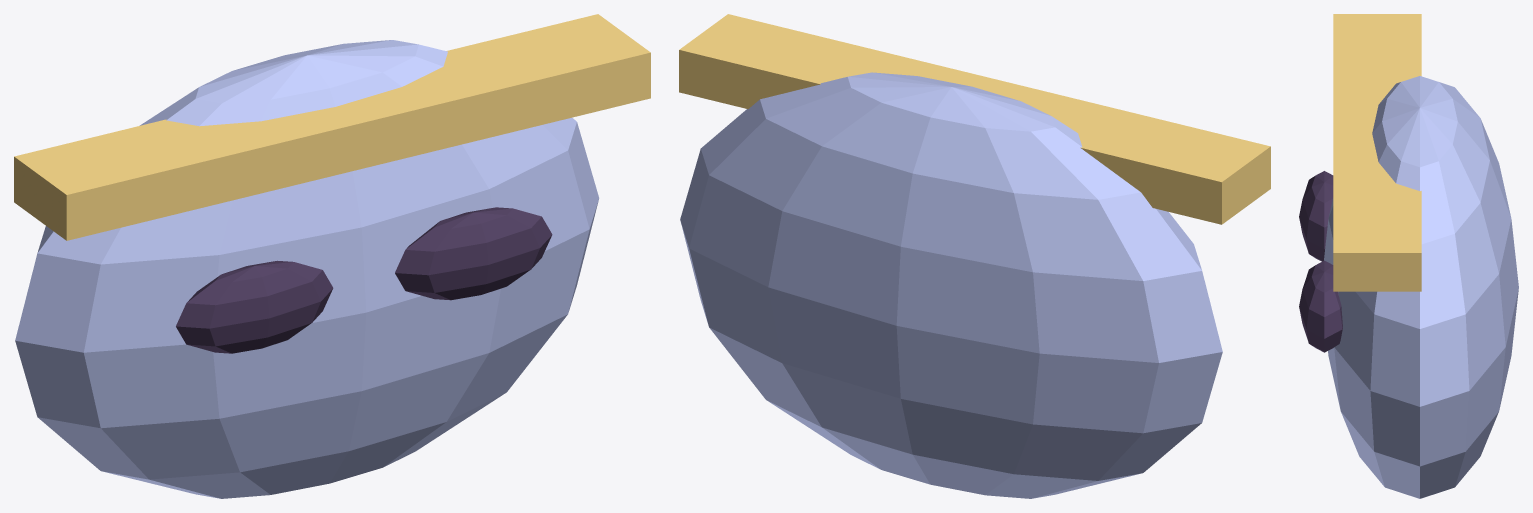
File: mask.fbx
3 renders of one model, left to right at view 1: azimuth 30°, elevation 25°; view 2: azimuth 150°, elevation 25°; view 3: azimuth 270°, elevation 25°, orthographic. The views are drawn at different scales.
Parts seen in each view (by area): view 1: mask.Main, mask.Gold, mask.Dark; view 2: mask.Main, mask.Gold; view 3: mask.Main, mask.Gold, mask.Dark.
Boxes of the visible parts, x1,y1,x2,y2 form: mask.Main: (15, 40, 599, 498); mask.Gold: (14, 14, 650, 240); mask.Dark: (176, 207, 552, 353); mask.Main: (680, 72, 1222, 498); mask.Gold: (679, 14, 1270, 224); mask.Main: (1324, 76, 1518, 498); mask.Gold: (1333, 14, 1421, 291); mask.Dark: (1299, 171, 1342, 352).
Bounding box in the file's own units: 1.6 × 1.12 × 0.622.
